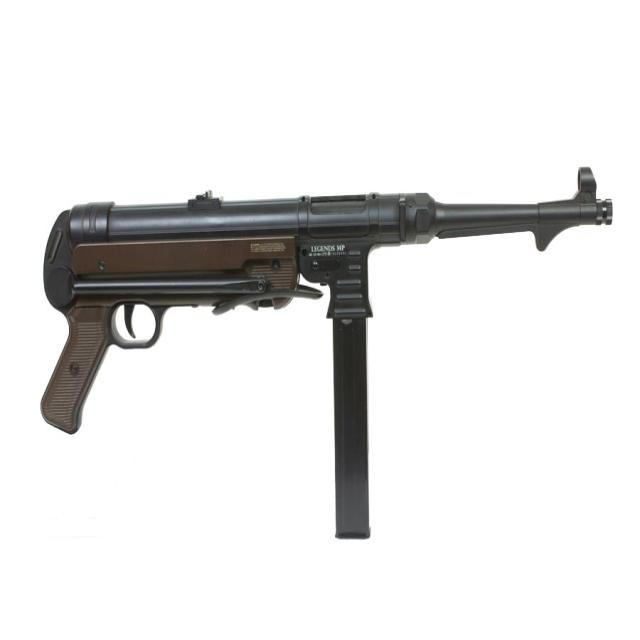SMG: (40, 168, 616, 541)
